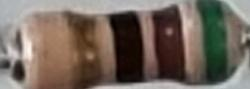Black: (106, 11, 148, 83)
Brown: (152, 2, 189, 83)
Green: (195, 0, 230, 85)
Side-Gold: (68, 13, 104, 89)
